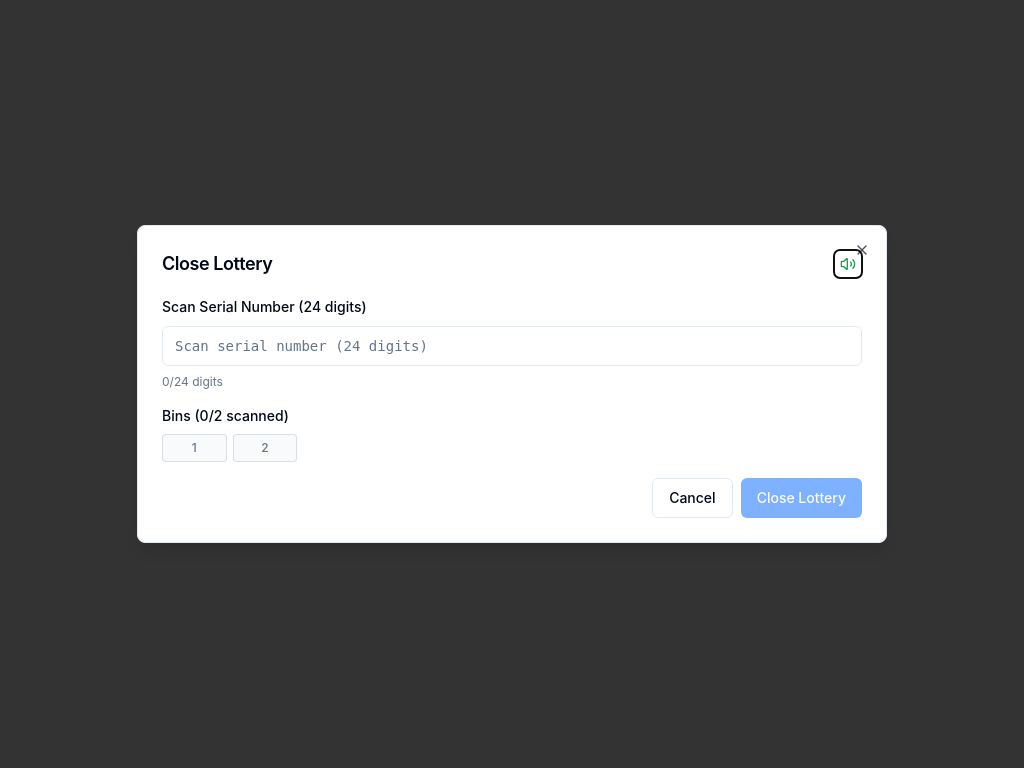
CloseDayModal Component › CLOSE-007: [P0] should only accept numeric input (strip non-digits)
# User types alphanumeric input
Type "ABC123DEF456" into the field with test id "serial-input" at (512, 346), box [162, 326, 862, 366]
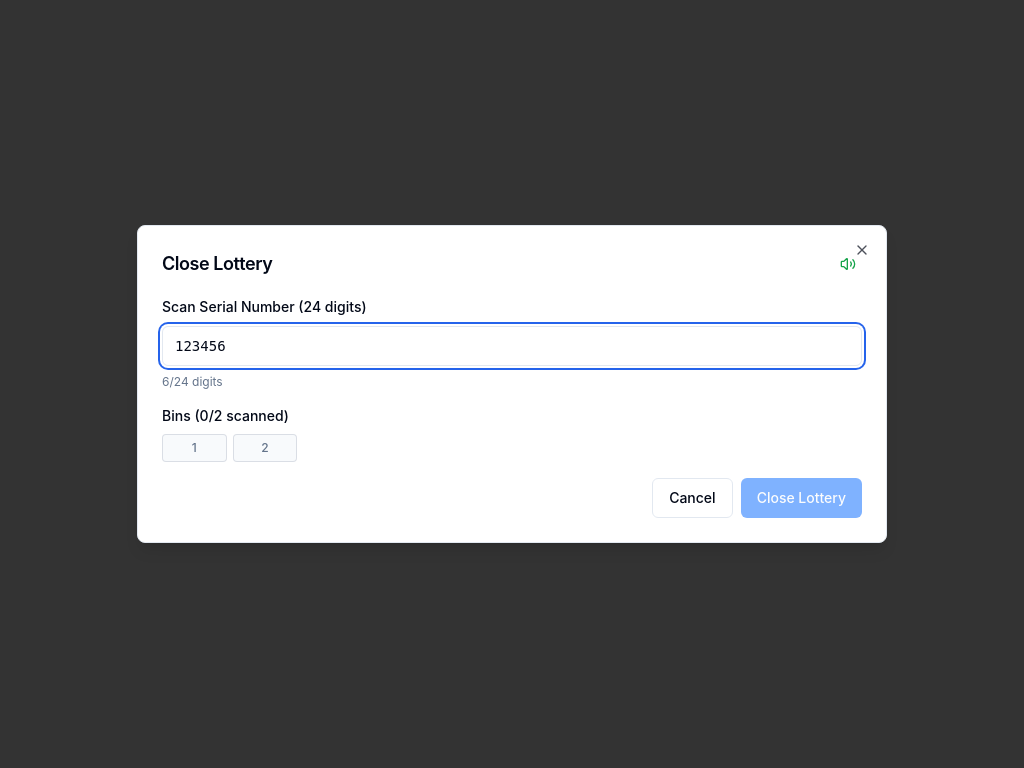
Expected: the field with test id "serial-input" holds "123456", [162, 326, 862, 366]
